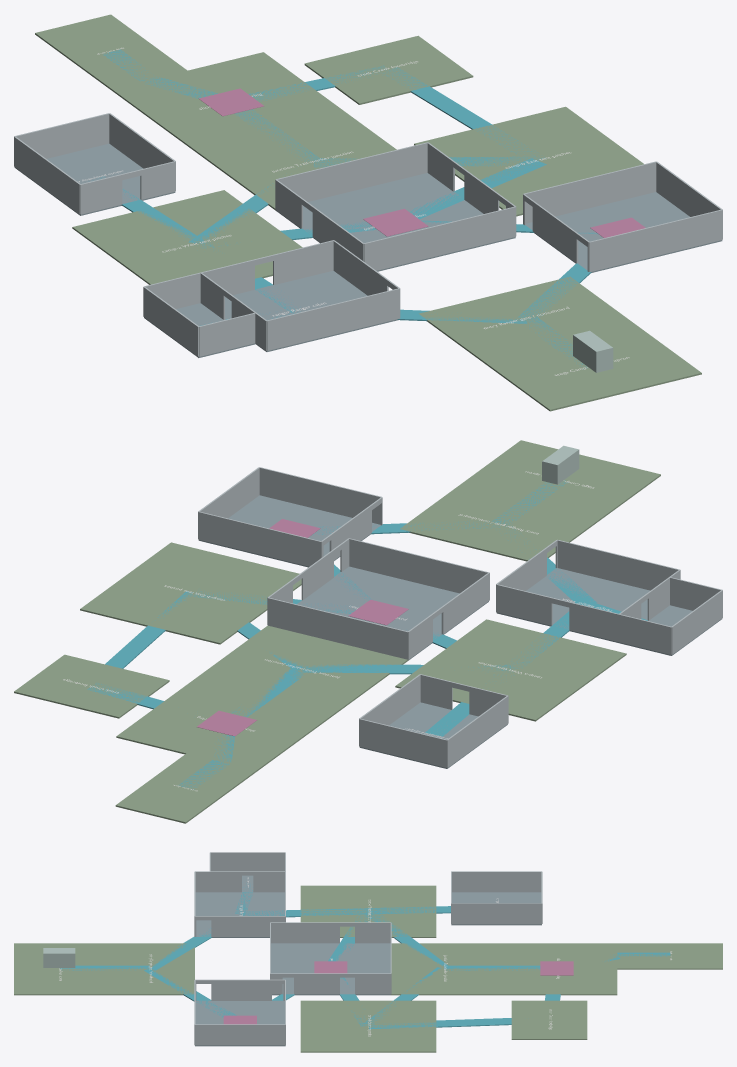
The model's file is rough-shell.glb.
The picture shows the model from 3 angles, top to bottom: view 1: azimuth 30°, elevation 25°; view 2: azimuth 150°, elevation 25°; view 3: azimuth 270°, elevation 25°; orthographic projection. The views are drawn at different scales.
Visible parts, largest first — view 1: Floor shore, Floor camp-a, Floor camp-b, Floor entry, Floor stage, Floor junction, Floor creek, Floor pavilion, Floor dock, Wall pavilion S, Wall pavilion N, Wall bath S (+36 smaller); view 2: Floor camp-b, Floor camp-a, Floor shore, Floor junction, Floor entry, Floor stage, Floor creek, Floor pavilion, Floor dock, Wall pavilion N, Wall pavilion S, Wall bath N (+31 smaller); view 3: Floor camp-b, Floor camp-a, Floor shore, Floor junction, Floor entry, Floor stage, Floor pavilion, Floor creek, Floor dock, Floor ranger, Floor bath, Wall bath E (+24 smaller).
Boxes of the visible parts, x1,y1,x2,y2 form: Floor shore: [111, 52, 350, 154]; Floor camp-a: [72, 190, 302, 284]; Floor camp-b: [414, 106, 643, 216]; Floor entry: [419, 276, 635, 362]; Floor stage: [484, 325, 701, 411]; Floor junction: [199, 116, 396, 210]; Floor creek: [304, 35, 473, 104]; Floor pavilion: [276, 173, 515, 271]; Floor dock: [35, 14, 187, 90]; Wall pavilion S: [363, 206, 515, 270]; Wall pavilion N: [276, 142, 427, 201]; Wall bath S: [589, 209, 722, 272]; Floor camp-b: [80, 542, 301, 644]; Floor camp-a: [395, 619, 626, 721]; Floor shore: [116, 677, 337, 771]; Floor junction: [198, 625, 408, 712]; Floor entry: [400, 484, 600, 561]; Floor stage: [460, 440, 660, 519]; Floor creek: [14, 654, 169, 718]; Floor pavilion: [297, 566, 488, 660]; Floor dock: [115, 753, 256, 823]; Wall pavilion N: [267, 597, 408, 659]; Wall pavilion S: [349, 538, 489, 593]; Wall bath N: [198, 511, 321, 566]; Floor camp-b: [300, 1000, 436, 1052]; Floor camp-a: [300, 885, 436, 937]; Floor shore: [496, 943, 617, 995]; Floor junction: [391, 943, 496, 995]; Floor entry: [104, 943, 194, 995]; Floor stage: [14, 943, 104, 995]; Floor pavilion: [271, 943, 390, 995]; Floor creek: [511, 1000, 587, 1039]; Floor dock: [617, 943, 722, 969]; Floor ranger: [195, 892, 284, 937]; Floor bath: [195, 1000, 285, 1046]; Wall bath E: [195, 1024, 285, 1045].
Size of the model in its own units: 56.08 by 3.16 by 94.
